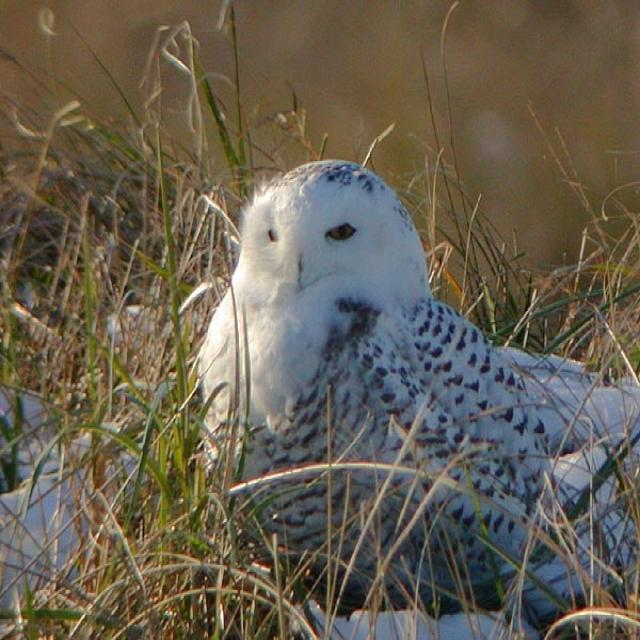bird: (192, 154, 638, 617), (538, 610, 640, 640)
